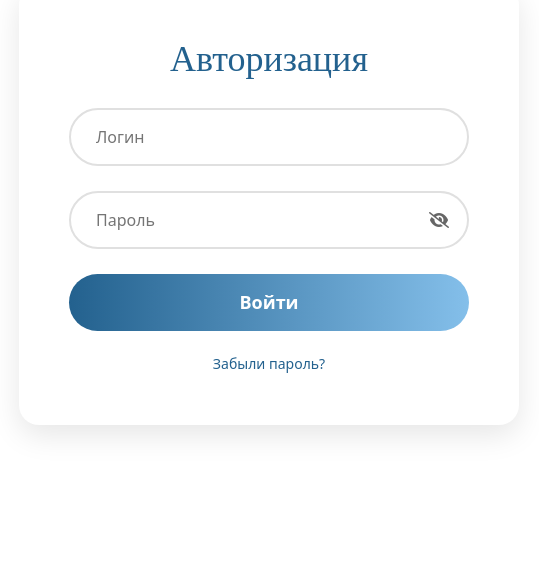
Test: Login Component › should show forgot password message when clicked
Click the link "Забыли пароль?": {"x": 269, "y": 364} [213,354,325,373]
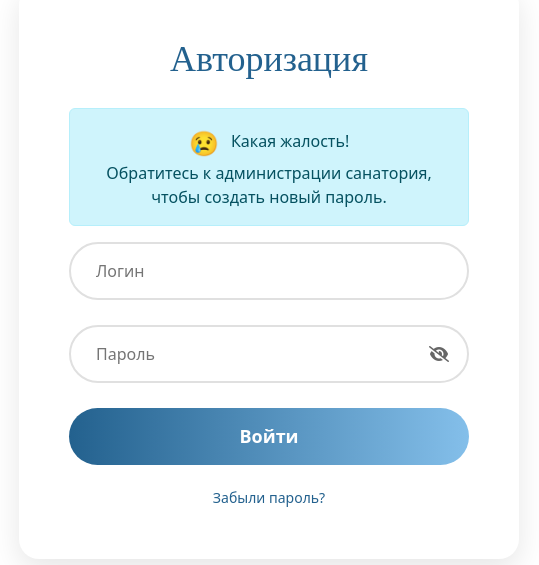
expect the text "Какая жалость!" is shown: met, box [231,130,349,152]
